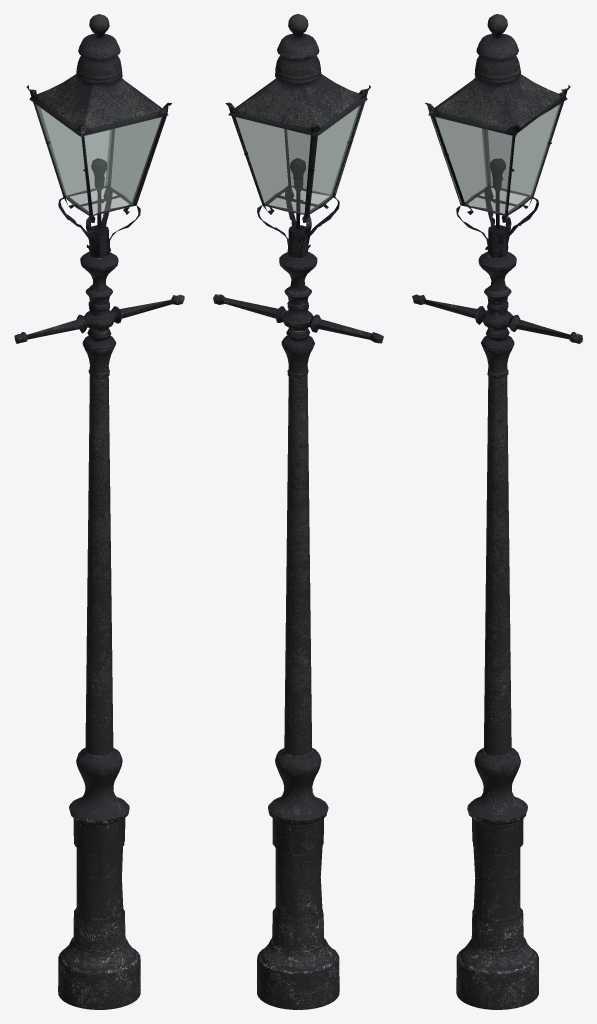
The model's file is street_lamp_01.glb.
3 renders of one model, left to right at view 1: azimuth 30°, elevation 25°; view 2: azimuth 150°, elevation 25°; view 3: azimuth 330°, elevation 25°, orthographic.
Parts seen in each view (by area): view 1: body, glass; view 2: body, glass; view 3: body, glass.
Part boxes in pixels (x1,y1,x2,y2): body: (14, 14, 184, 1009); glass: (36, 104, 162, 213); body: (213, 14, 383, 1009); glass: (235, 104, 361, 213); body: (412, 14, 582, 1009); glass: (434, 103, 560, 214).
Size of the model in its own units: 0.7048 by 3.87 by 0.3856.
Materials: 2 (2 with a texture image).
